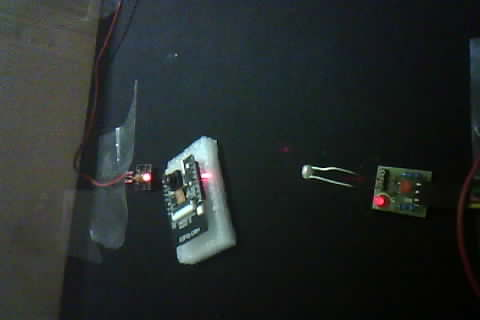esp32: (159, 142, 241, 257)
